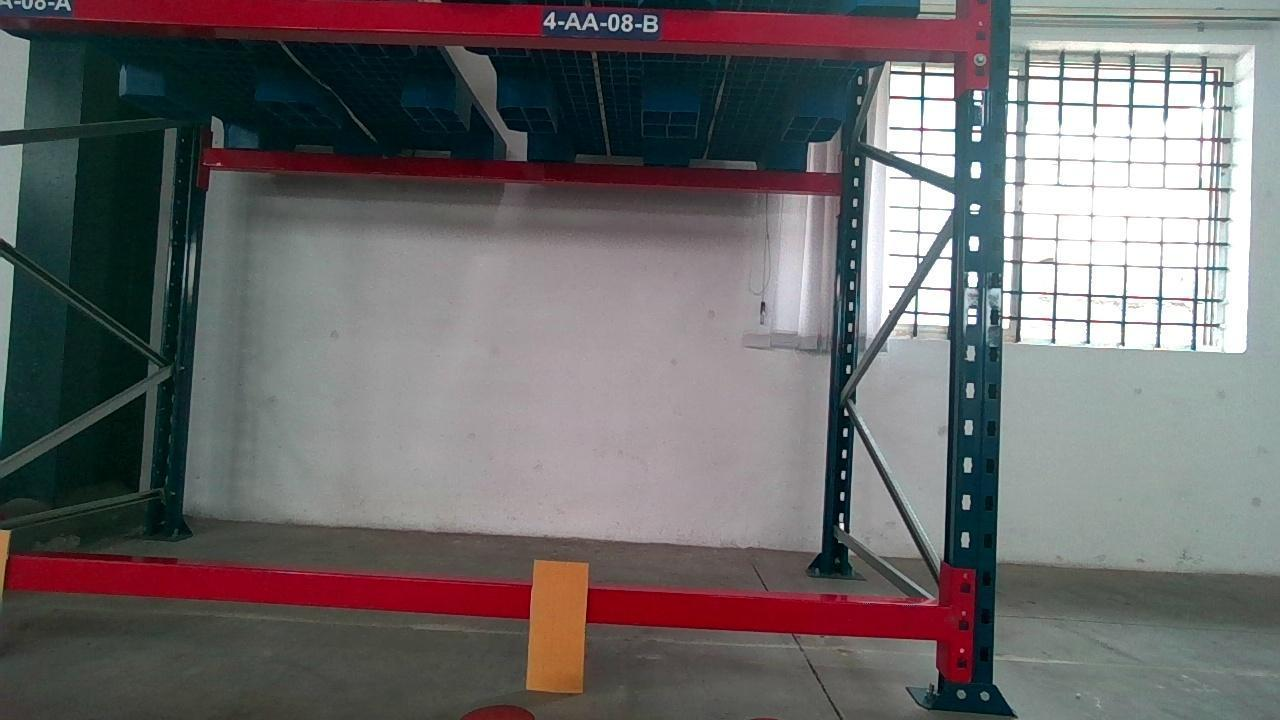h_rack: (1, 551, 963, 640), (0, 0, 985, 56)
orange_strip: (526, 559, 587, 689)
